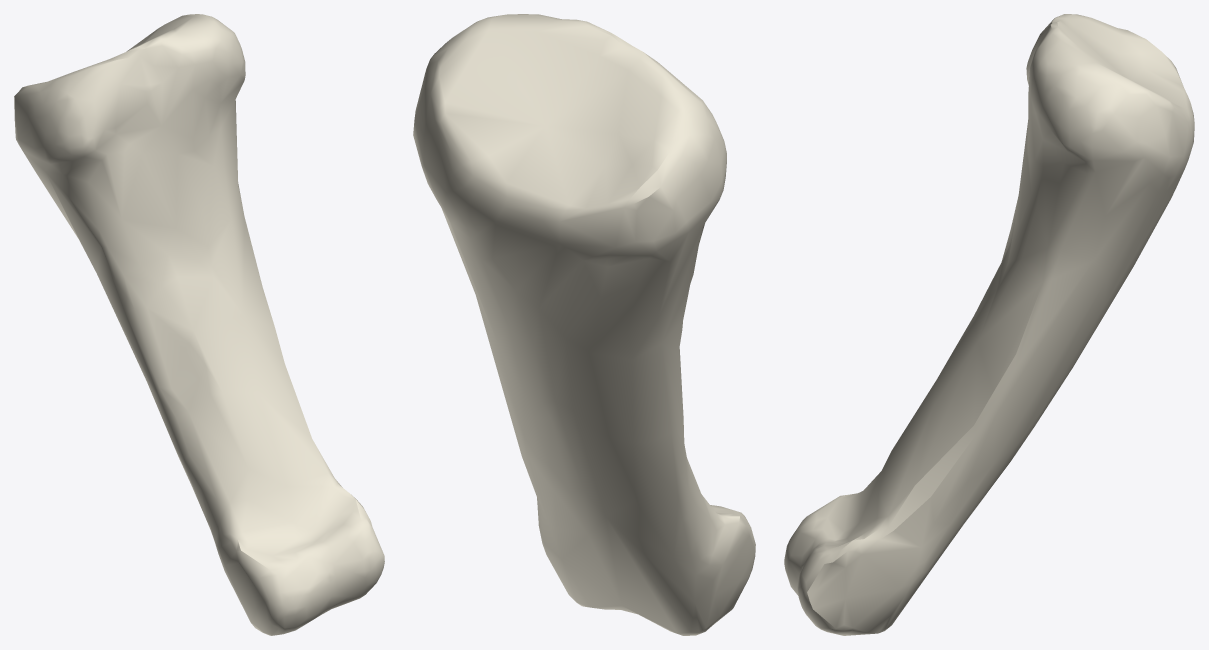
Rendered from fma24454.glb.
The picture shows the model from 3 angles, left to right: view 1: azimuth 30°, elevation 25°; view 2: azimuth 150°, elevation 25°; view 3: azimuth 270°, elevation 25°; orthographic projection. The views are drawn at different scales.
Parts seen in each view (by area): view 1: FMA24454; view 2: FMA24454; view 3: FMA24454.
Boxes of the visible parts, x1,y1,x2,y2 form: FMA24454: [14, 14, 384, 635]; FMA24454: [413, 14, 755, 635]; FMA24454: [784, 14, 1194, 635].
Size of the model in its own units: 0.0145 by 0.0328 by 0.0212.
